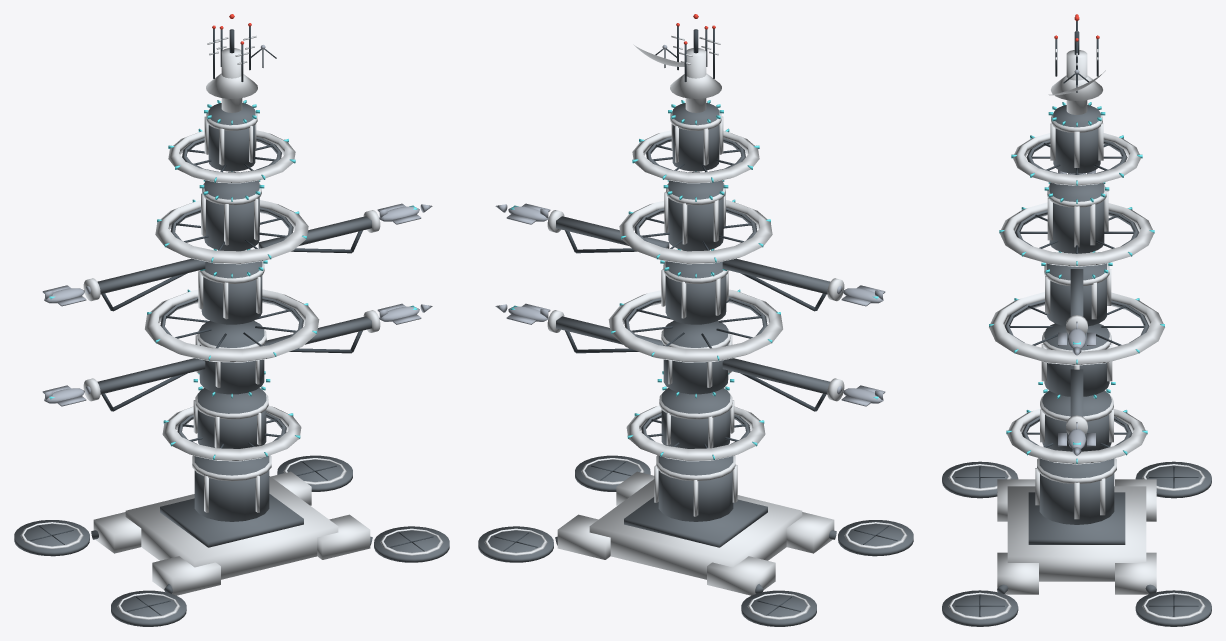
Rendered from station_side.gltf.
3 views of the same model, side by side, from view 1: azimuth 30°, elevation 25°; view 2: azimuth 150°, elevation 25°; view 3: azimuth 270°, elevation 25° (orthographic).
Parts seen in each view (by area): view 1: StationSide; view 2: StationSide; view 3: StationSide.
Boxes of the visible parts, <box> form: StationSide: <box>14,14,449,626</box>; StationSide: <box>478,14,913,626</box>; StationSide: <box>942,14,1211,626</box>.
Bounding box in the file's own units: 65.01 × 84.56 × 39.
